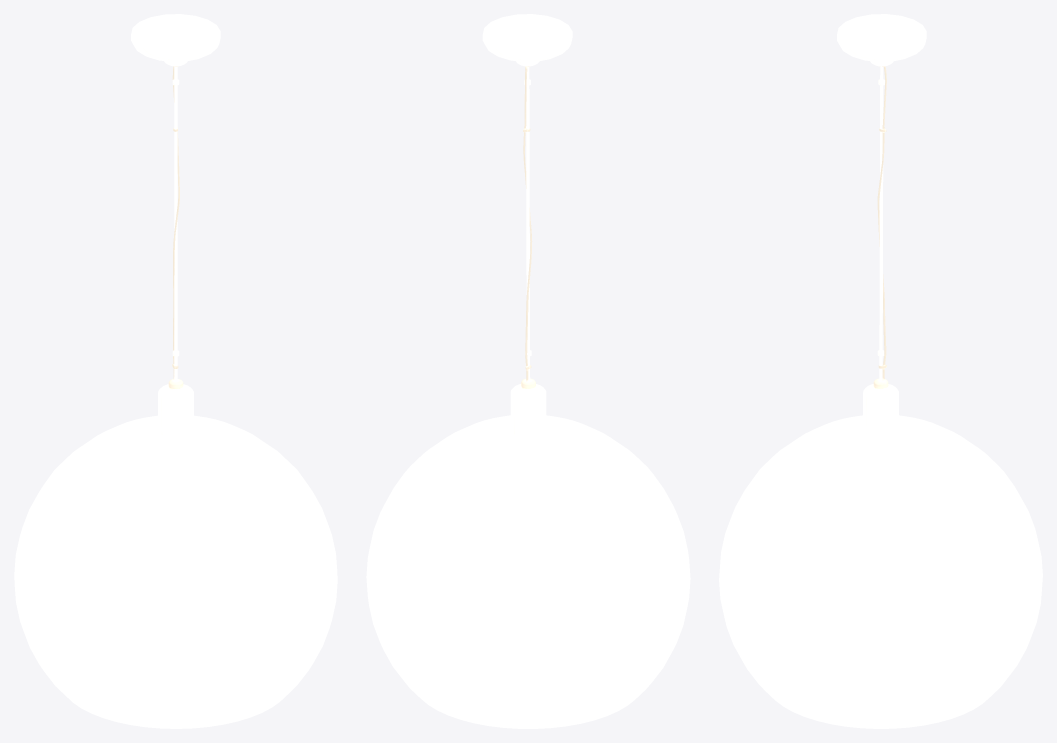
The model's file is globe-pendant.610d18e6d3.glb.
3 renders of one model, left to right at view 1: azimuth 30°, elevation 25°; view 2: azimuth 150°, elevation 25°; view 3: azimuth 270°, elevation 25°, orthographic.
Parts seen in each view (by area): view 1: modern_ceiling_lamp_01; view 2: modern_ceiling_lamp_01; view 3: modern_ceiling_lamp_01.
Boxes of the visible parts, box(x1,y1,x2,y2) form: modern_ceiling_lamp_01: box(14, 14, 337, 728); modern_ceiling_lamp_01: box(366, 14, 690, 728); modern_ceiling_lamp_01: box(719, 14, 1042, 728).
Bounding box in the file's own units: 0.4317 × 0.9516 × 0.4317.
Materials: 2 (2 with a texture image).
